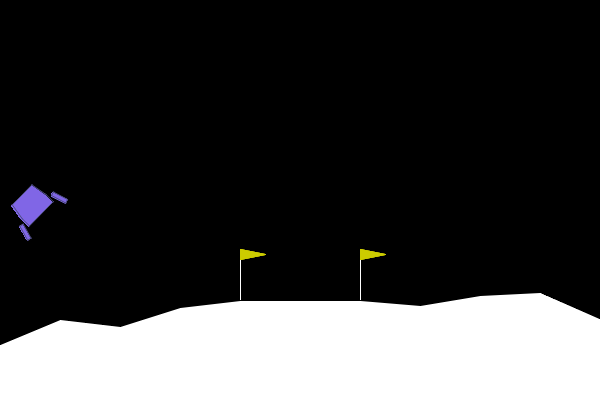lander: (0, 172, 70, 243)
